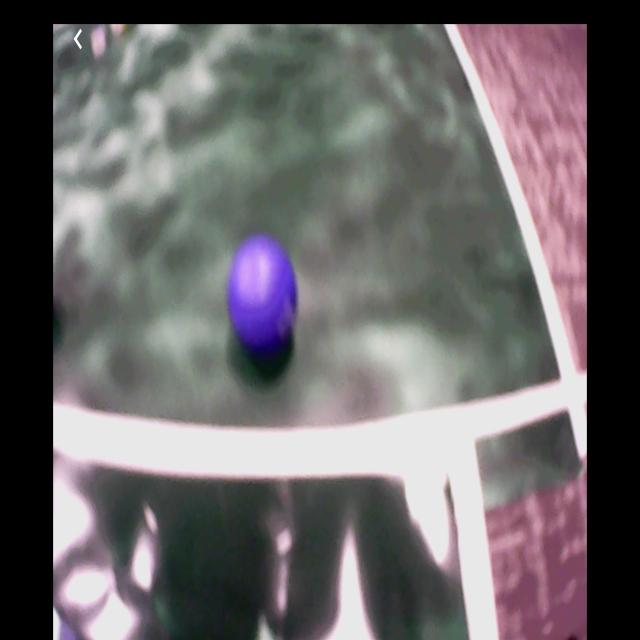ball: (229, 237, 299, 364)
